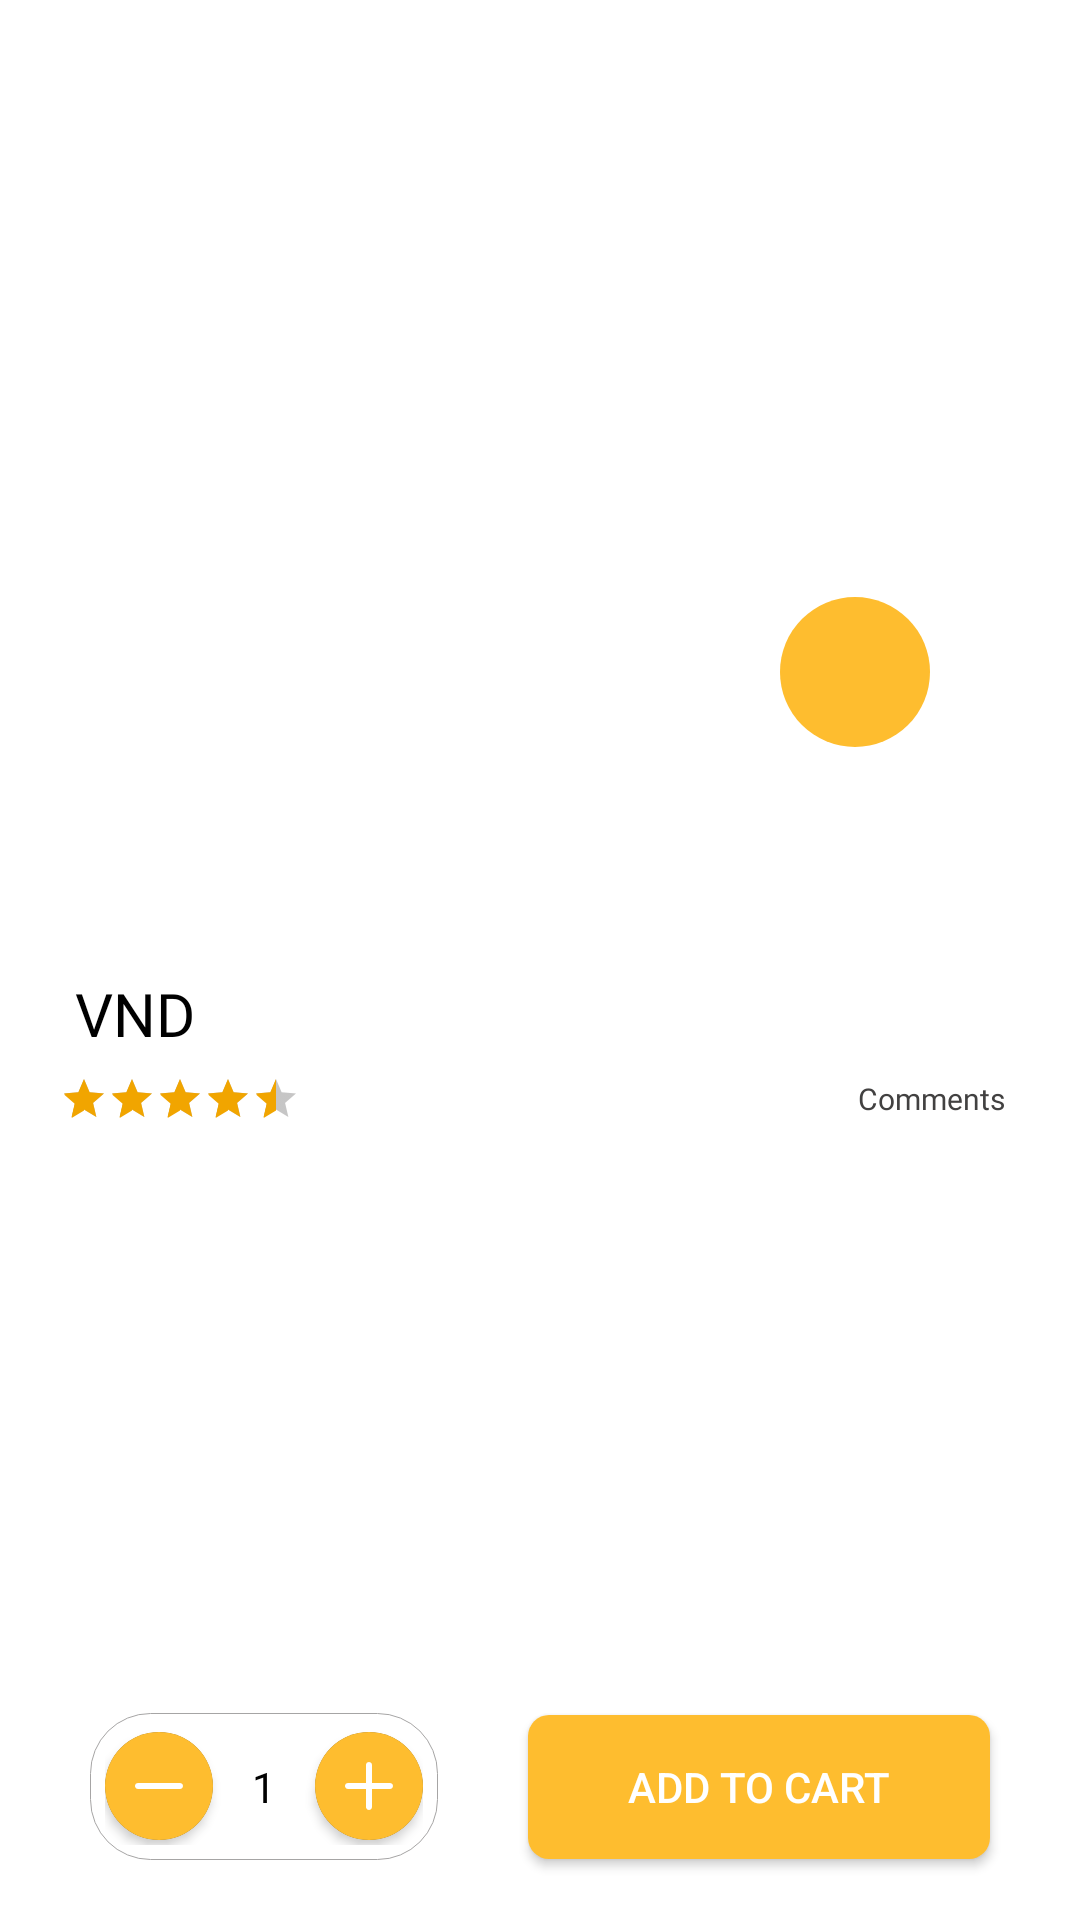

Where icons sit on this 1080*1920 app screen, as (x1, y1, x2, y2):
minus: (105, 1732, 213, 1840)
plus: (315, 1732, 423, 1840)
